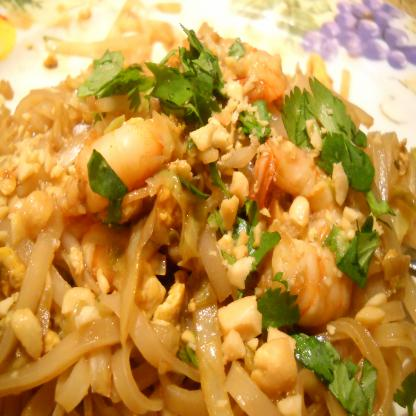Laadna: (0, 39, 415, 415)
